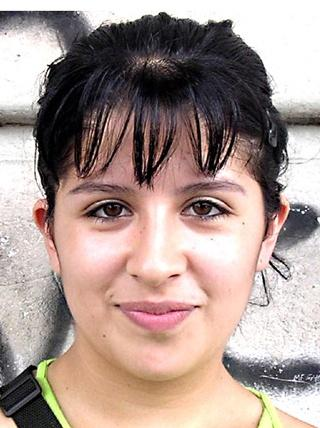No Mask: (29, 59, 293, 397)
